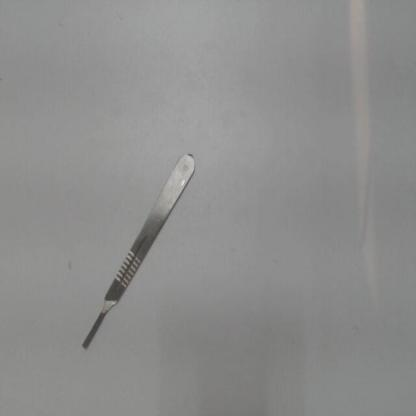No.4 BP Handle: (69, 140, 210, 362)
